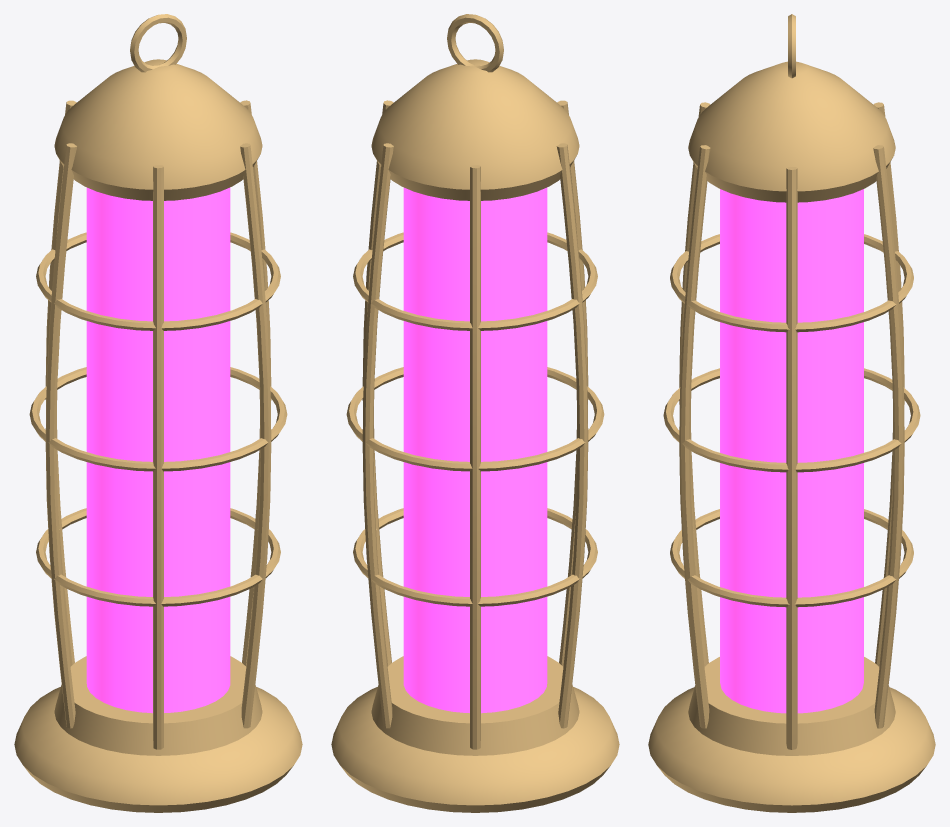
File: KIT_Lanterna_Chao.glb
3 views of the same model, side by side, from view 1: azimuth 30°, elevation 25°; view 2: azimuth 150°, elevation 25°; view 3: azimuth 270°, elevation 25° (orthographic).
Parts seen in each view (by area): view 1: KIT_Lanterna_Chao; view 2: KIT_Lanterna_Chao; view 3: KIT_Lanterna_Chao.
Part boxes in pixels (box(x1,y1,x2,y2)): KIT_Lanterna_Chao: box(14, 14, 302, 812); KIT_Lanterna_Chao: box(331, 14, 619, 812); KIT_Lanterna_Chao: box(648, 14, 935, 812).
Size of the model in its own units: 0.36 by 1.02 by 0.36.
